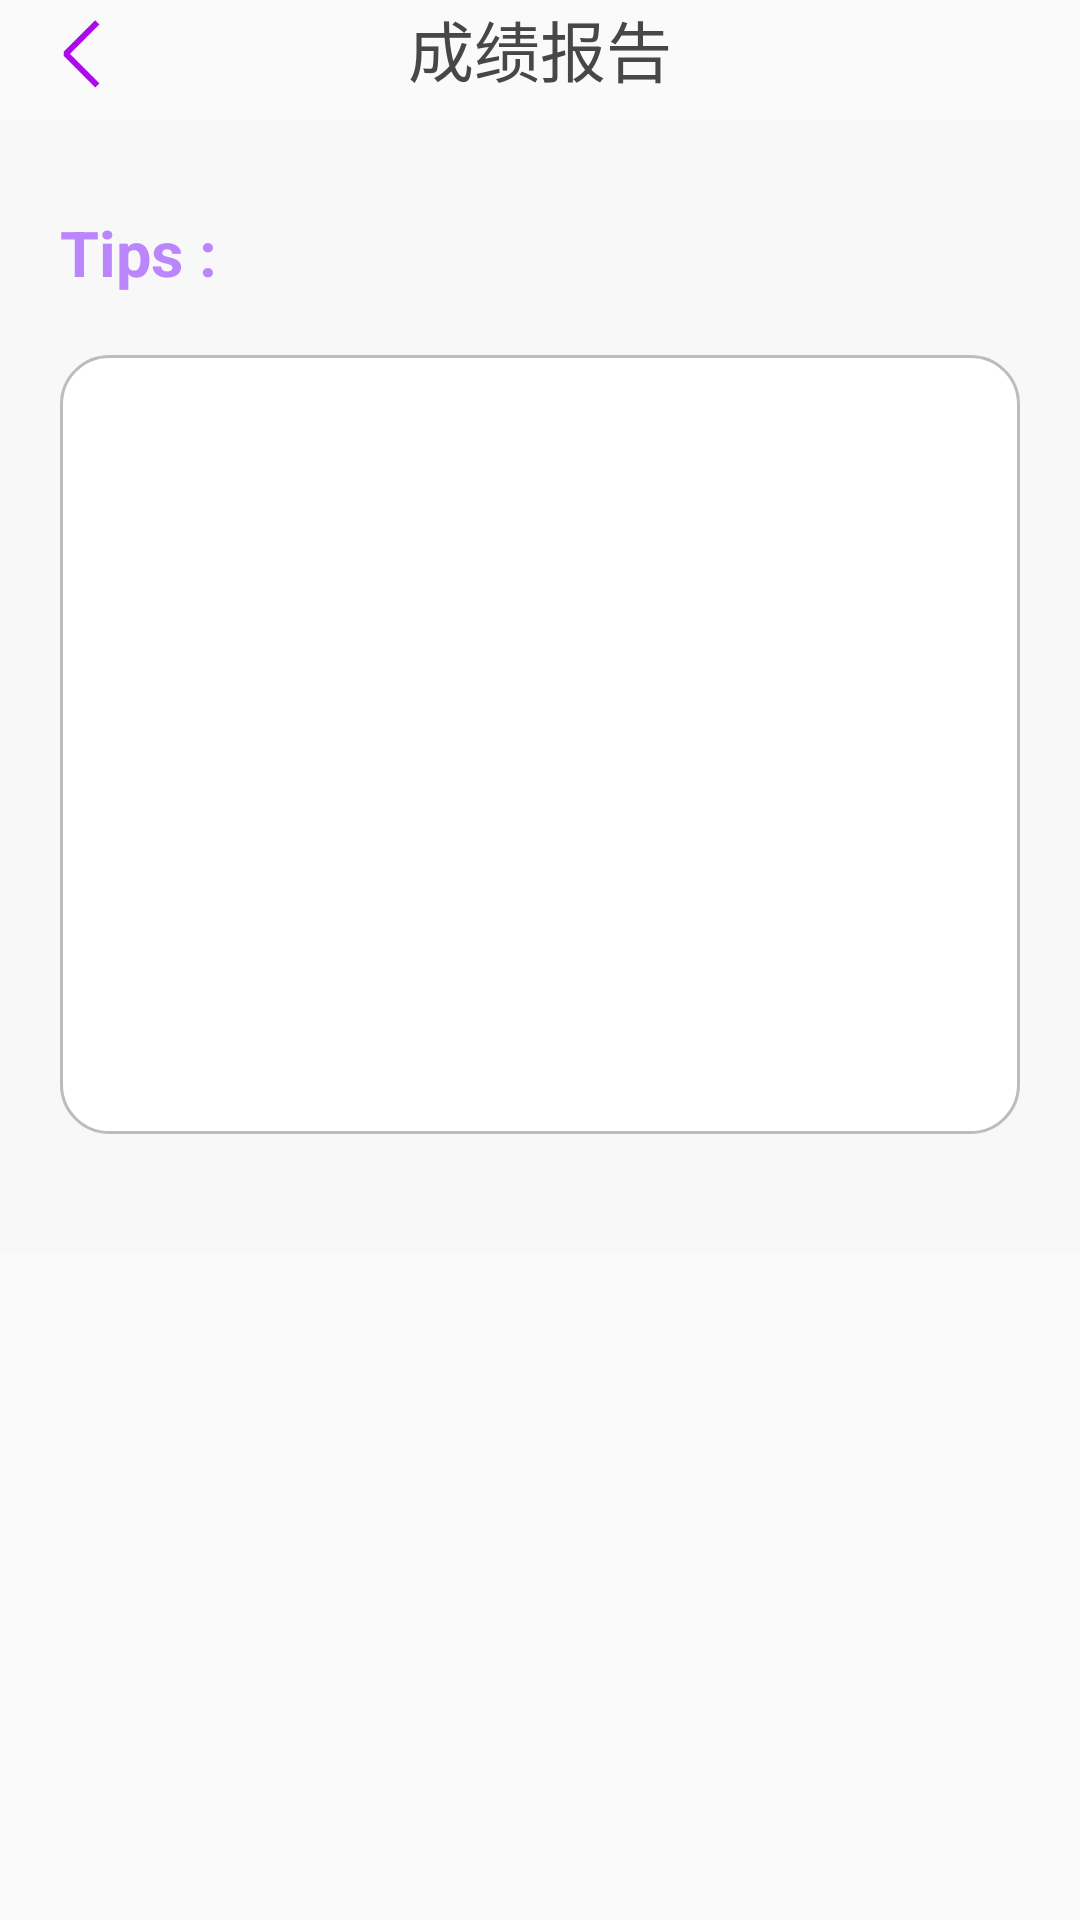

Icons on this 1080 × 1920 Android screen, each with the point to tap as [x,y]:
back: [81,54]
